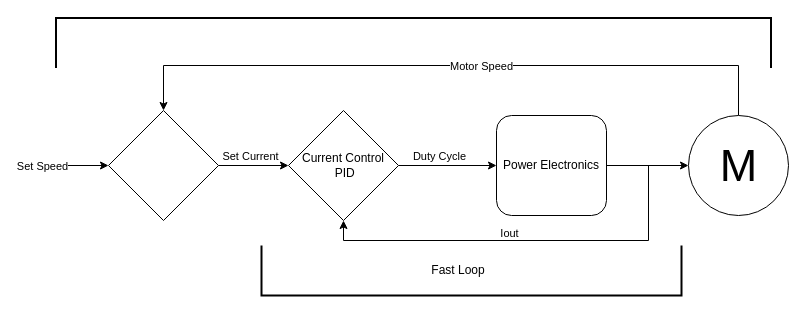
This 806x314 diagram has some shape labels left out. Each missing label, with the centre of its shape:
"Slow Loop" belongs at [413,42].
"Speed Control PID" belongs at [163,165].
